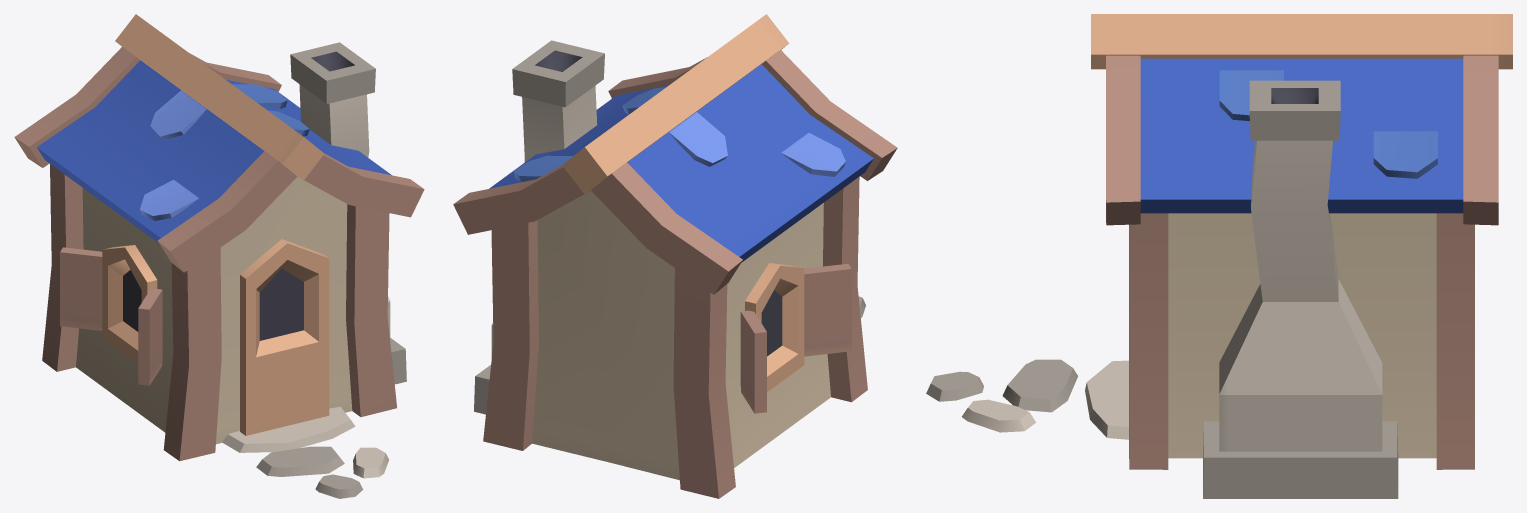
Rendered from SM_ME_House_02.fbx.
3 renders of one model, left to right at view 1: azimuth 30°, elevation 25°; view 2: azimuth 150°, elevation 25°; view 3: azimuth 270°, elevation 25°, orthographic. The views are drawn at different scales.
Visible parts, largest first — view 1: House_02; view 2: House_02; view 3: House_02.
Boxes of the visible parts, bbox=[...] form: House_02: bbox=[14, 14, 424, 498]; House_02: bbox=[453, 14, 897, 498]; House_02: bbox=[926, 14, 1512, 498].
Bounding box in the file's own units: 0.386 × 0.4206 × 0.5673.
